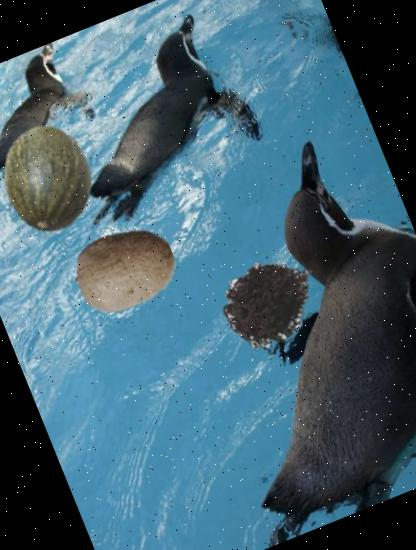Kiwi: (57, 201, 191, 336)
Melon: (0, 112, 113, 243)
Rambutan: (206, 234, 336, 364)
